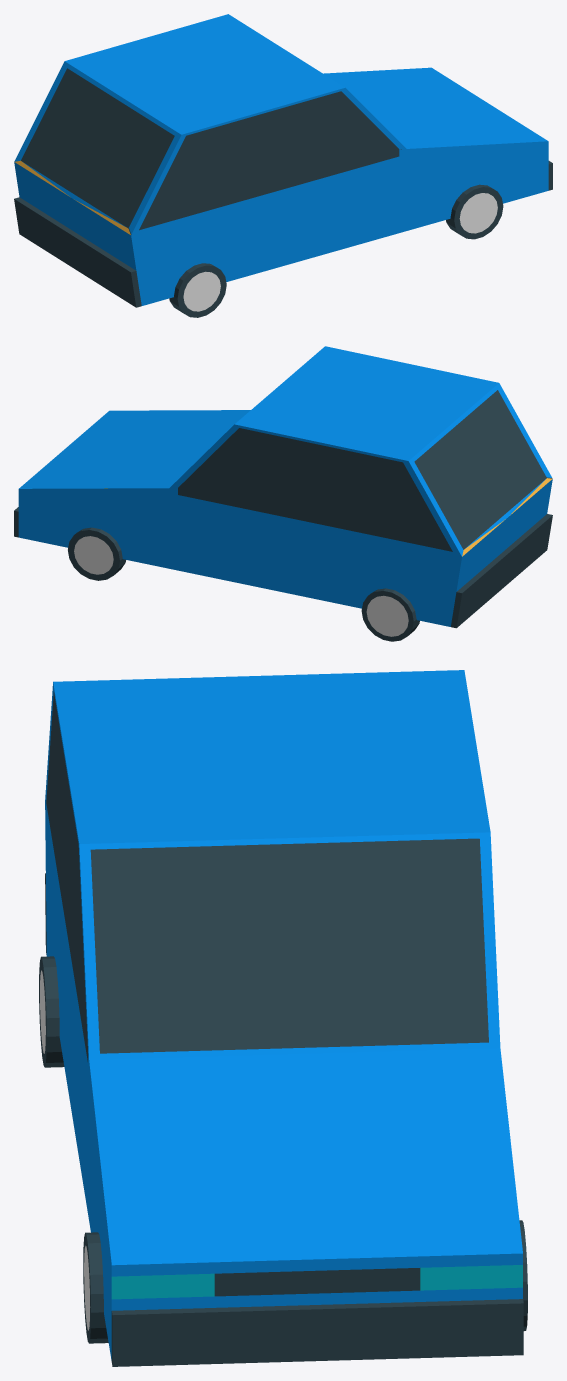
File: car_03_2_2_world_ap_0_lev1.glb
3 views of the same model, one above another, from view 1: azimuth 30°, elevation 25°; view 2: azimuth 150°, elevation 25°; view 3: azimuth 270°, elevation 25° (orthographic). The views are drawn at different scales.
Parts seen in each view (by area): view 1: car_03_2_2_world_ap_0_lev1; view 2: car_03_2_2_world_ap_0_lev1; view 3: car_03_2_2_world_ap_0_lev1.
Part boxes in pixels (left/top/right/bottom): car_03_2_2_world_ap_0_lev1: left=14, top=14, right=552, bottom=317; car_03_2_2_world_ap_0_lev1: left=14, top=346, right=552, bottom=641; car_03_2_2_world_ap_0_lev1: left=39, top=670, right=527, bottom=1366.
Size of the model in its own units: 1.54 by 0.6023 by 0.7346.
1 material, 1 textured.
